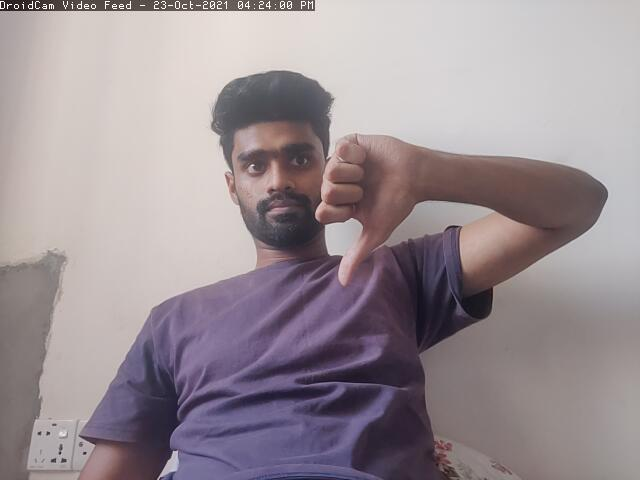ThumbsDown: (315, 122, 419, 285)
